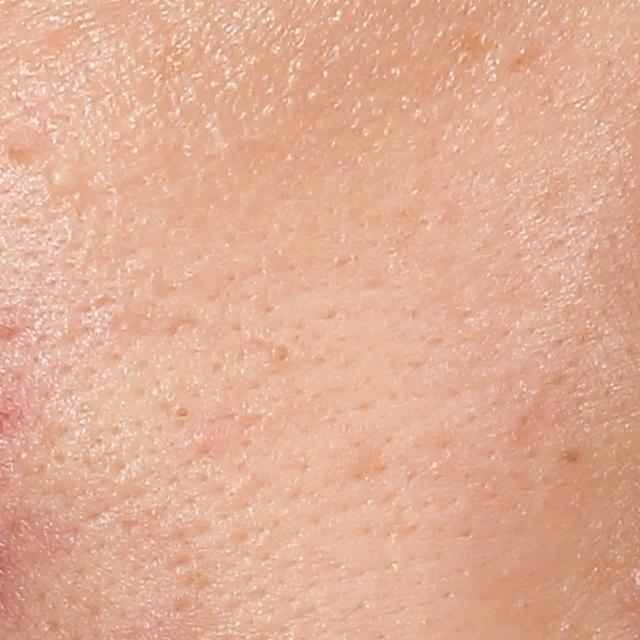comedo: (50, 164, 86, 193), (265, 336, 297, 366), (168, 400, 193, 420)
